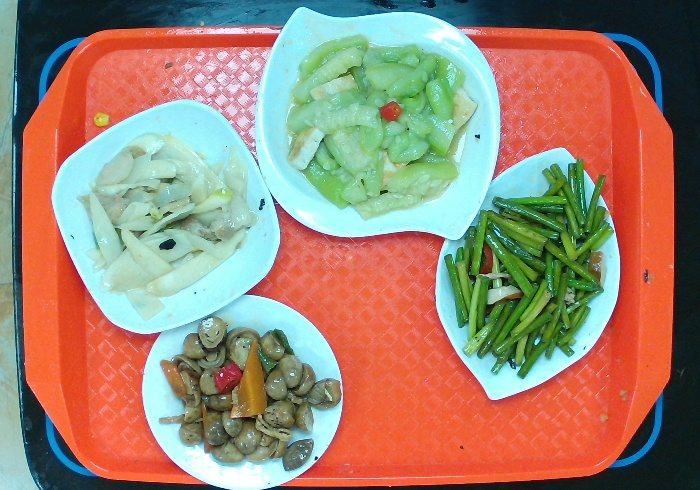RJxy-Da_Du_Pan: (429, 140, 626, 410)
RJxy-Shuang_Jiao_Pan: (248, 5, 507, 248)
RJxy-Si_Fang_Wan: (50, 88, 284, 341)
RJxy-Xiao_Yuan_Die: (135, 287, 346, 487)
